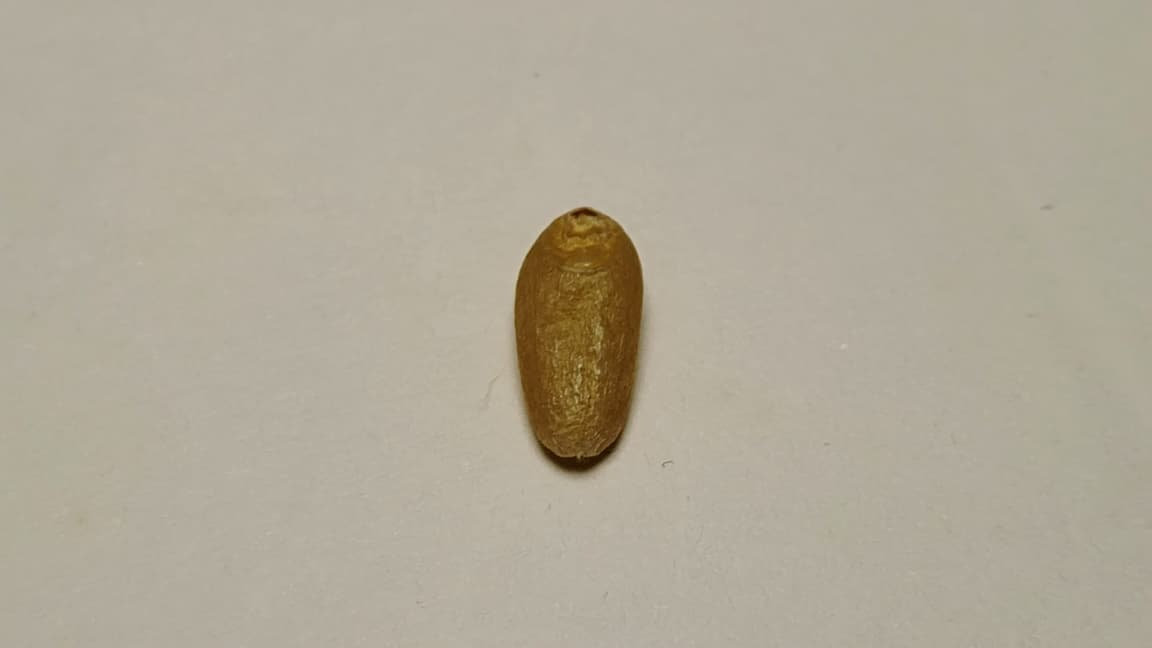healthy: (515, 207, 642, 455)
